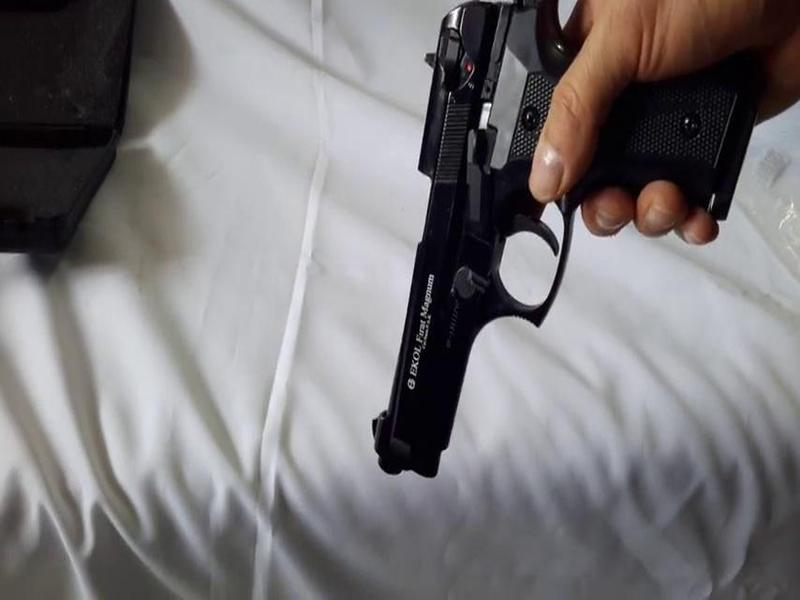Pistola: (313, 27, 758, 507)
